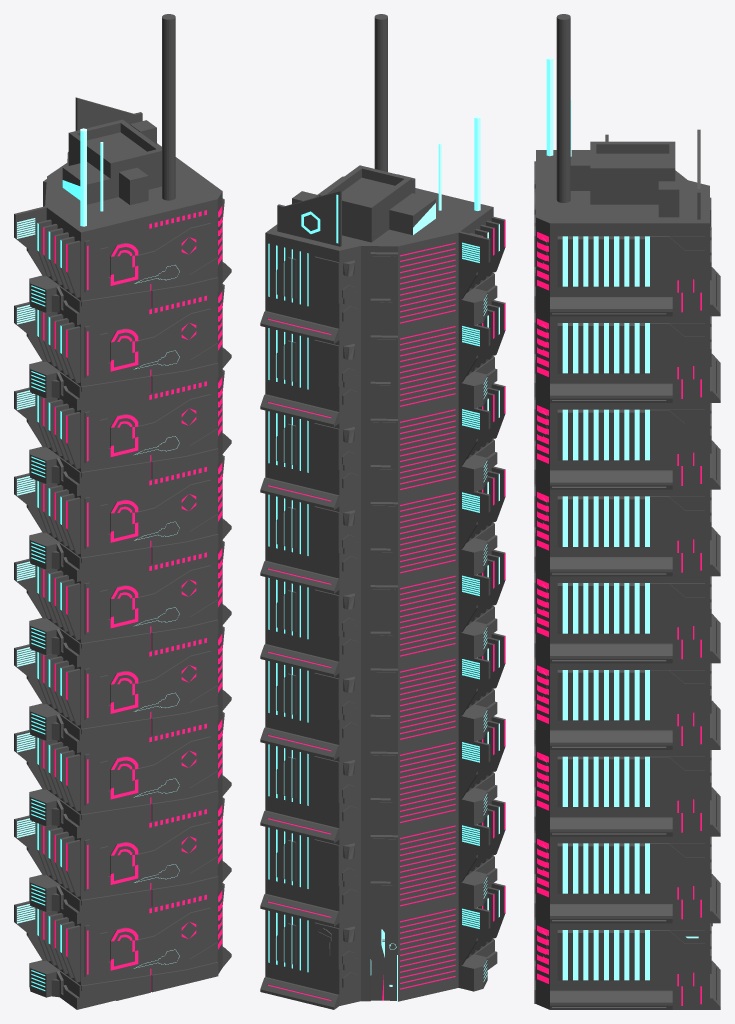
Rendered from BossEnviroment.fbx.
3 views of the same model, side by side, from view 1: azimuth 30°, elevation 25°; view 2: azimuth 150°, elevation 25°; view 3: azimuth 270°, elevation 25° (orthographic). The views are drawn at different scales.
Visible parts, largest first — view 1: CY1_obj_cleaner_materialmerger_gles; view 2: CY1_obj_cleaner_materialmerger_gles; view 3: CY1_obj_cleaner_materialmerger_gles.
Boxes of the visible parts, left/top/right/bottom form: CY1_obj_cleaner_materialmerger_gles: left=14, top=14, right=231, bottom=1009; CY1_obj_cleaner_materialmerger_gles: left=260, top=14, right=505, bottom=1009; CY1_obj_cleaner_materialmerger_gles: left=534, top=14, right=720, bottom=1009.
Bounding box in the file's own units: 6190 × 30000 × 5223.
